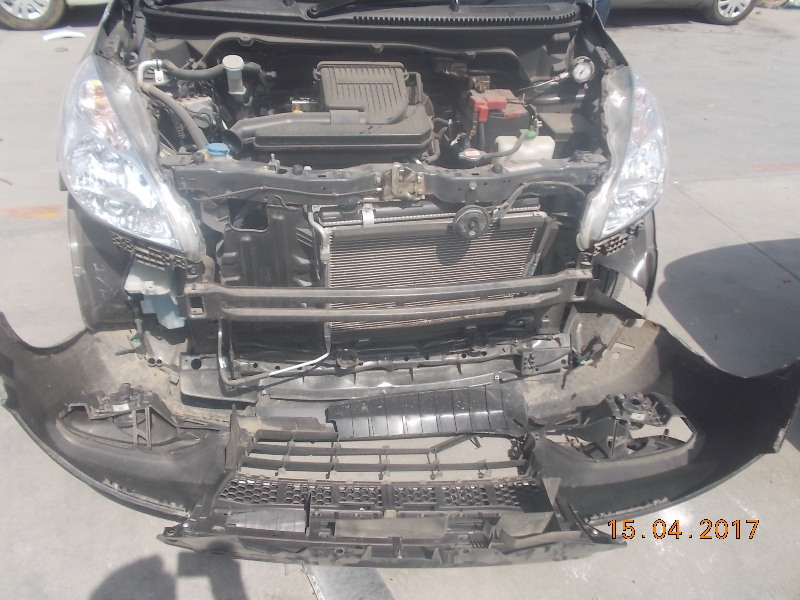Large_tear_or_damage: (55, 50, 671, 269)
